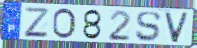2: (108, 9, 131, 41)
8: (82, 9, 103, 40)
O: (51, 7, 77, 40)
S: (135, 11, 163, 43)
V: (164, 11, 191, 44)
Z: (24, 6, 50, 38)
